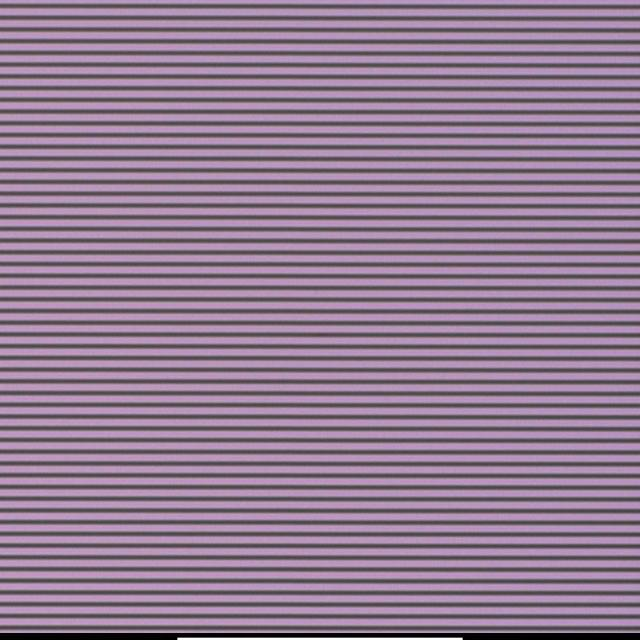03_intrusion: (281, 272, 290, 280)
